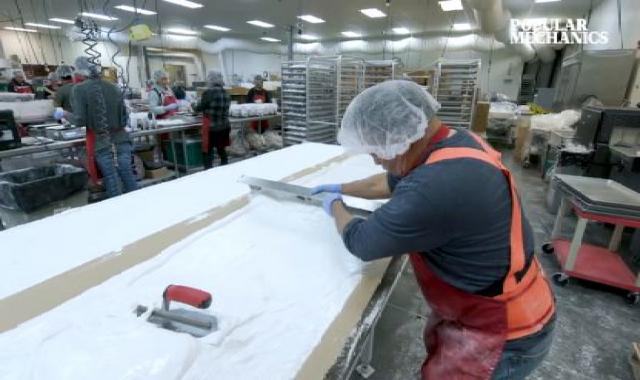hairnet: (338, 81, 442, 157), (73, 56, 106, 78), (209, 68, 230, 86), (150, 70, 170, 84)
